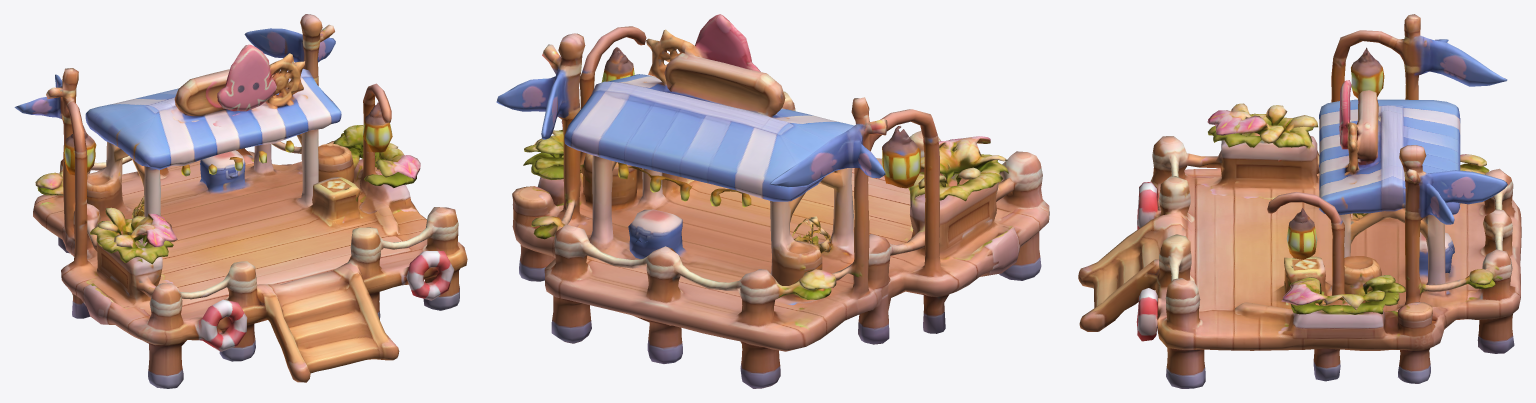
File: squid-dock.glb
3 views of the same model, side by side, from view 1: azimuth 30°, elevation 25°; view 2: azimuth 150°, elevation 25°; view 3: azimuth 270°, elevation 25° (orthographic). The views are drawn at different scales.
Visible parts, largest first — view 1: tripo_node_75619583-931a-4f5e-b3e4-977b81a0029d; view 2: tripo_node_75619583-931a-4f5e-b3e4-977b81a0029d; view 3: tripo_node_75619583-931a-4f5e-b3e4-977b81a0029d.
Part boxes in pixels (bbox=[...]): tripo_node_75619583-931a-4f5e-b3e4-977b81a0029d: bbox=[14, 14, 467, 388]; tripo_node_75619583-931a-4f5e-b3e4-977b81a0029d: bbox=[496, 14, 1049, 388]; tripo_node_75619583-931a-4f5e-b3e4-977b81a0029d: bbox=[1078, 14, 1521, 388].
Bounding box in the file's own units: 0.9448 × 0.6064 × 0.977.
1 material, 1 textured.
